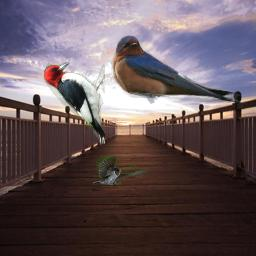Swallow: (111, 35, 248, 105), (93, 156, 148, 185)
Woodpecker: (44, 62, 105, 144)
